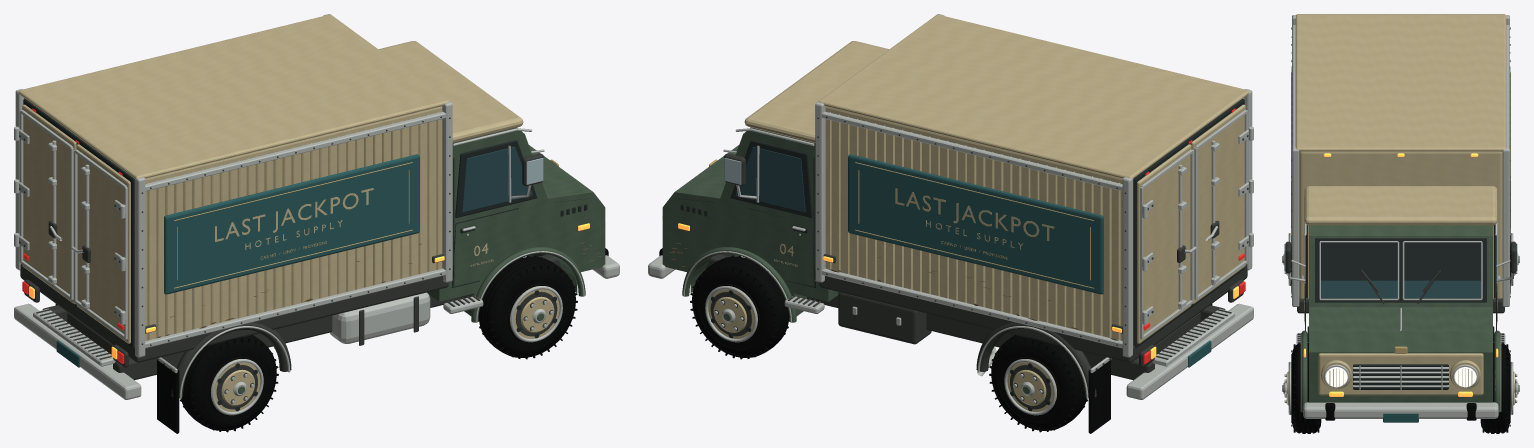
The model's file is service-truck.glb.
3 renders of one model, left to right at view 1: azimuth 30°, elevation 25°; view 2: azimuth 150°, elevation 25°; view 3: azimuth 270°, elevation 25°, orthographic. The views are drawn at different scales.
Visible parts, largest first — view 1: Hotel delivery truck / 02 / warm ivory cargo enamel, Hotel delivery truck / 05 / weathered brushed alloy, Hotel delivery truck / 03 / deep petrol livery, Hotel delivery truck / 01 / aged sage enamel, Hotel delivery truck / 07 / chassis graphite, Hotel delivery truck / 06 / tire rubber, Hotel delivery truck / 09 / panel seams and grille recess, Hotel delivery truck / 08 / blue black cab glazing, Hotel delivery truck / 04 / satin champagne brass; view 2: Hotel delivery truck / 02 / warm ivory cargo enamel, Hotel delivery truck / 05 / weathered brushed alloy, Hotel delivery truck / 03 / deep petrol livery, Hotel delivery truck / 07 / chassis graphite, Hotel delivery truck / 01 / aged sage enamel, Hotel delivery truck / 06 / tire rubber, Hotel delivery truck / 09 / panel seams and grille recess, Hotel delivery truck / 08 / blue black cab glazing, Hotel delivery truck / 04 / satin champagne brass; view 3: Hotel delivery truck / 02 / warm ivory cargo enamel, Hotel delivery truck / 01 / aged sage enamel, Hotel delivery truck / 05 / weathered brushed alloy, Hotel delivery truck / 09 / panel seams and grille recess, Hotel delivery truck / 06 / tire rubber, Hotel delivery truck / 08 / blue black cab glazing, Hotel delivery truck / 07 / chassis graphite, Hotel delivery truck / 03 / deep petrol livery, Hotel delivery truck / 11 / headlight prismatic glass, Hotel delivery truck / 04 / satin champagne brass, Hotel delivery truck / 10 / amber safety lamp.
Boxes of the visible parts, <box> form: Hotel delivery truck / 02 / warm ivory cargo enamel: <box>18,14,559,411</box>; Hotel delivery truck / 05 / weathered brushed alloy: <box>14,14,619,415</box>; Hotel delivery truck / 03 / deep petrol livery: <box>56,154,419,367</box>; Hotel delivery truck / 01 / aged sage enamel: <box>238,127,605,393</box>; Hotel delivery truck / 07 / chassis graphite: <box>19,116,561,409</box>; Hotel delivery truck / 06 / tire rubber: <box>55,248,608,433</box>; Hotel delivery truck / 09 / panel seams and grille recess: <box>23,99,592,411</box>; Hotel delivery truck / 08 / blue black cab glazing: <box>462,146,532,212</box>; Hotel delivery truck / 04 / satin champagne brass: <box>174,159,558,288</box>; Hotel delivery truck / 02 / warm ivory cargo enamel: <box>708,14,1249,411</box>; Hotel delivery truck / 05 / weathered brushed alloy: <box>648,14,1253,415</box>; Hotel delivery truck / 03 / deep petrol livery: <box>848,154,1211,367</box>; Hotel delivery truck / 07 / chassis graphite: <box>706,116,1248,409</box>; Hotel delivery truck / 01 / aged sage enamel: <box>662,127,1029,393</box>; Hotel delivery truck / 06 / tire rubber: <box>659,248,1212,433</box>; Hotel delivery truck / 09 / panel seams and grille recess: <box>675,99,1244,411</box>; Hotel delivery truck / 08 / blue black cab glazing: <box>735,146,805,212</box>; Hotel delivery truck / 04 / satin champagne brass: <box>709,159,1093,288</box>; Hotel delivery truck / 02 / warm ivory cargo enamel: <box>1287,14,1514,405</box>; Hotel delivery truck / 01 / aged sage enamel: <box>1282,225,1519,412</box>; Hotel delivery truck / 05 / weathered brushed alloy: <box>1283,15,1518,418</box>; Hotel delivery truck / 09 / panel seams and grille recess: <box>1304,225,1497,389</box>; Hotel delivery truck / 06 / tire rubber: <box>1291,235,1510,433</box>; Hotel delivery truck / 08 / blue black cab glazing: <box>1305,235,1496,297</box>; Hotel delivery truck / 07 / chassis graphite: <box>1285,27,1516,403</box>; Hotel delivery truck / 03 / deep petrol livery: <box>1291,66,1510,422</box>; Hotel delivery truck / 11 / headlight prismatic glass: <box>1325,367,1476,387</box>; Hotel delivery truck / 04 / satin champagne brass: <box>1291,72,1510,353</box>; Hotel delivery truck / 10 / amber safety lamp: <box>1303,153,1498,396</box>.
Size of the model in its own units: 5.49 by 2.91 by 2.55.
Materials: 14 (3 with a texture image).
